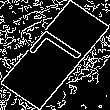L_SE: (22, 27, 88, 83)
